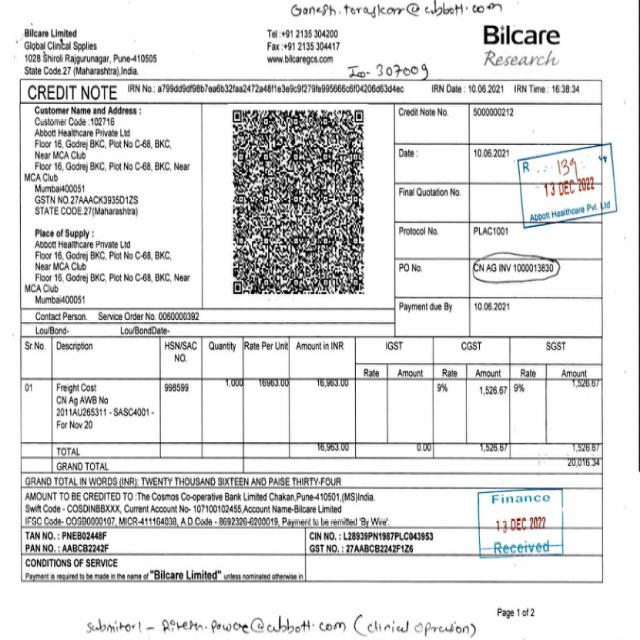QRCode: (230, 106, 366, 298)
